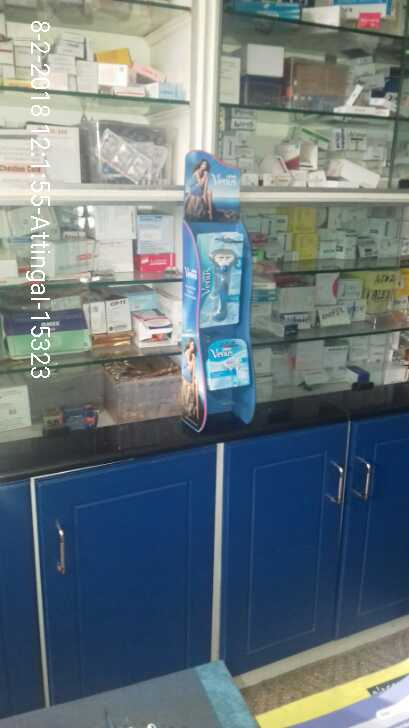venus: (195, 233, 240, 328), (209, 337, 258, 383)
